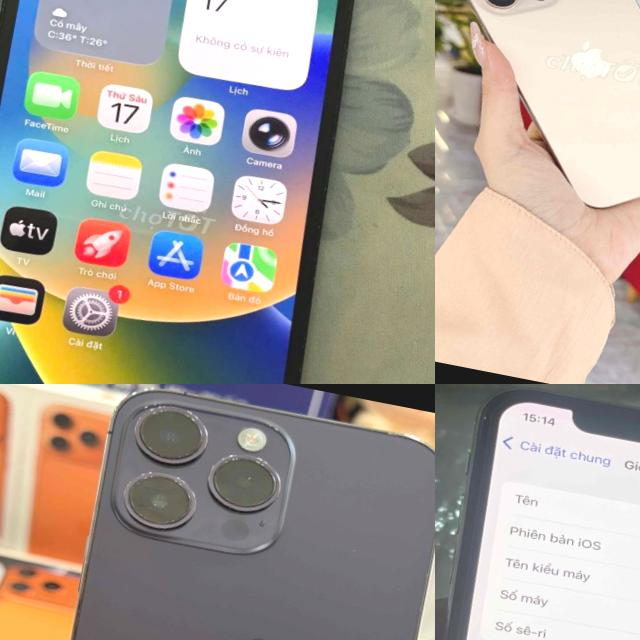gen_12_13: (0, 0, 401, 384)
gen_14: (0, 384, 435, 640)
gen_16: (466, 0, 640, 207)
gen_x_xs: (435, 384, 640, 640)
